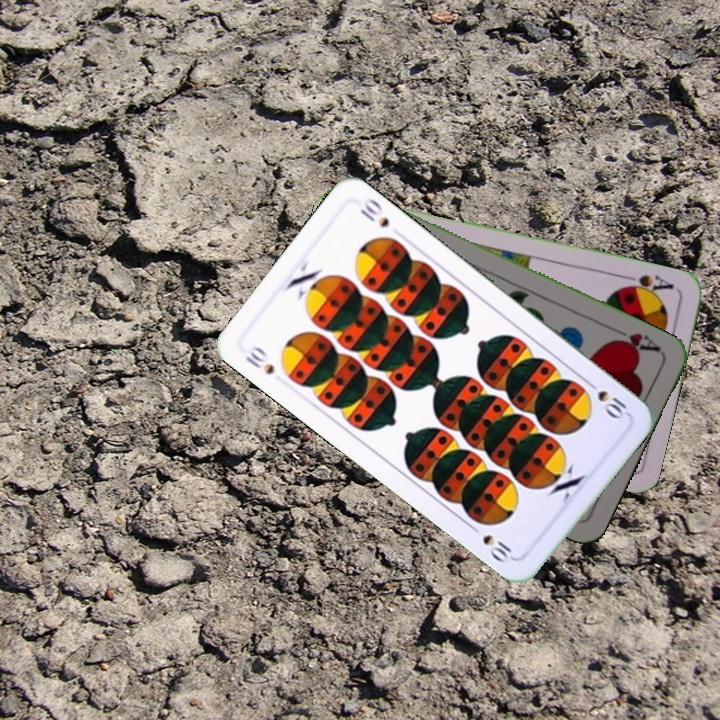HA: (606, 323, 664, 356)
S10: (581, 376, 631, 422), (241, 342, 277, 377)
SA: (618, 270, 677, 299)
